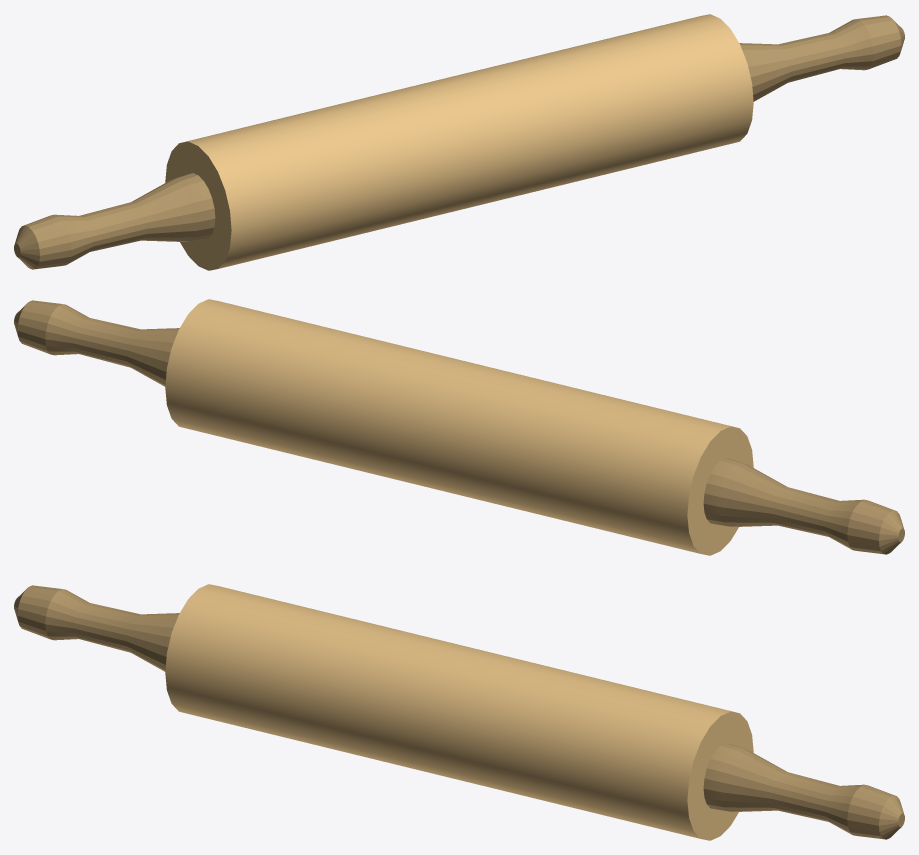
The model's file is rollingpin.fbx.
The picture shows the model from 3 angles, top to bottom: view 1: azimuth 30°, elevation 25°; view 2: azimuth 150°, elevation 25°; view 3: azimuth 330°, elevation 25°; orthographic projection.
Parts seen in each view (by area): view 1: pCylinder3; view 2: pCylinder3; view 3: pCylinder3.
Boxes of the visible parts, x1=… form: pCylinder3: x1=14, y1=14, x2=904, y2=270; pCylinder3: x1=14, y1=299, x2=904, y2=555; pCylinder3: x1=14, y1=584, x2=904, y2=840.
Size of the model in its own units: 3.41 by 0.4428 by 0.4428.
